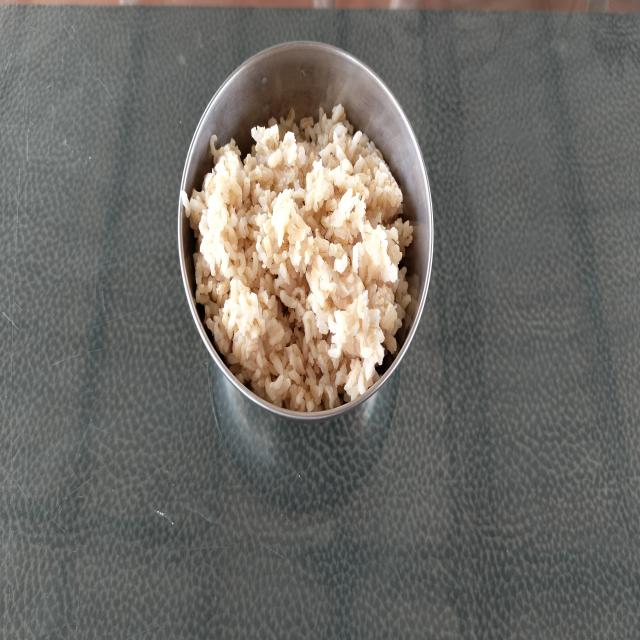brown-rice: (181, 104, 412, 412)
